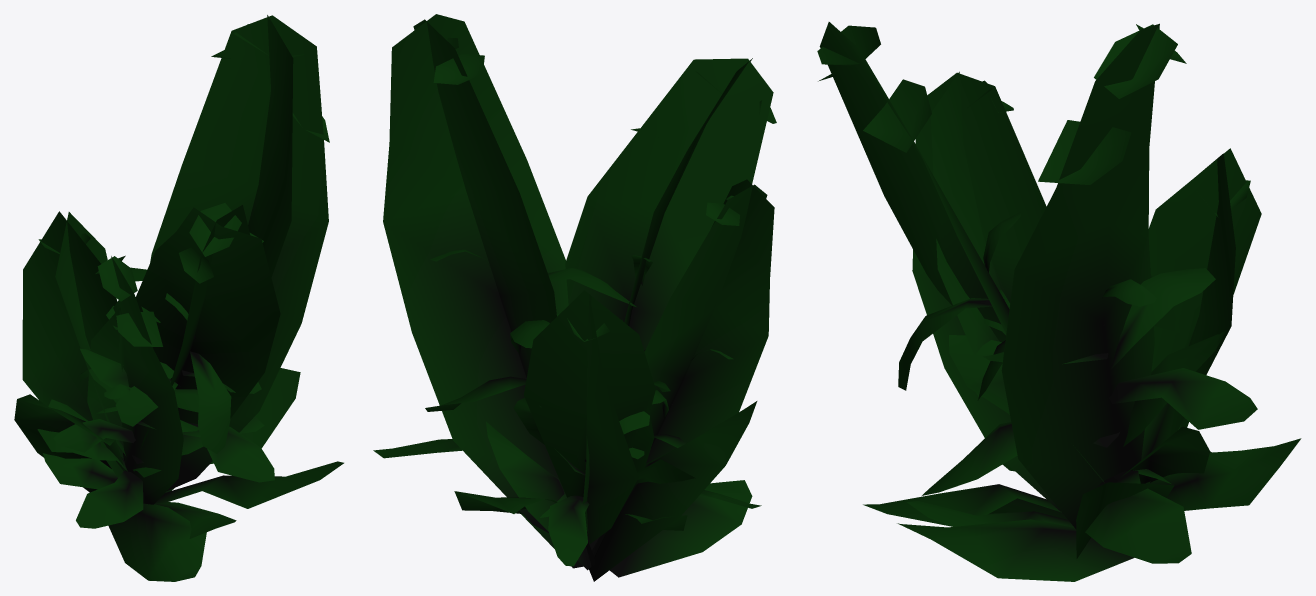
The model's file is FlowersWhiteGCATA_F.fbx.
3 renders of one model, left to right at view 1: azimuth 30°, elevation 25°; view 2: azimuth 150°, elevation 25°; view 3: azimuth 270°, elevation 25°, orthographic. The views are drawn at different scales.
Visible parts, largest first — view 1: FWGCATAF_LOD0; view 2: FWGCATAF_LOD0; view 3: FWGCATAF_LOD0.
Boxes of the visible parts, x1,y1,x2,y2 form: FWGCATAF_LOD0: [14, 15, 343, 581]; FWGCATAF_LOD0: [373, 14, 776, 581]; FWGCATAF_LOD0: [817, 22, 1301, 581].
Size of what is drawn, in the model's own units: 0.6367 by 0.9299 by 0.6651.
